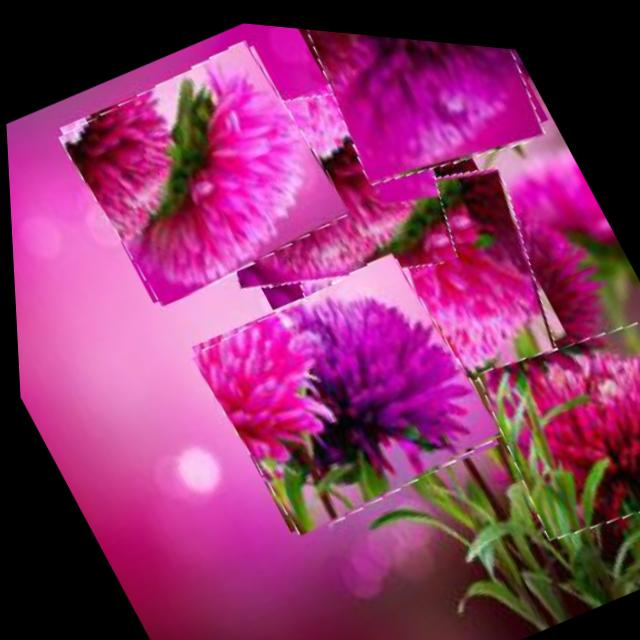Flower: (247, 110, 586, 447), (180, 229, 507, 550), (165, 24, 484, 336), (50, 19, 356, 322), (281, 21, 558, 206), (461, 277, 640, 549)
